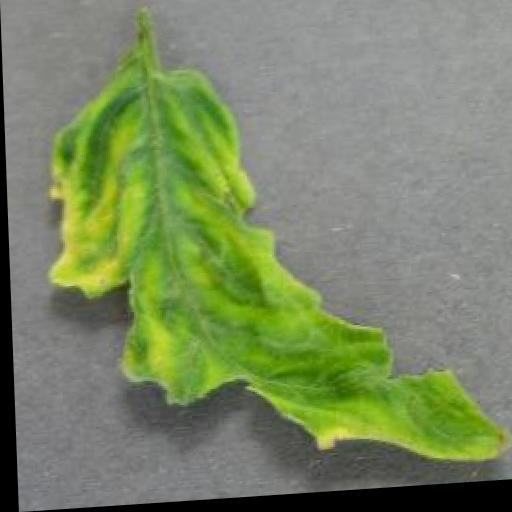Yellow Leaf Curl Virus: (37, 42, 512, 489)
